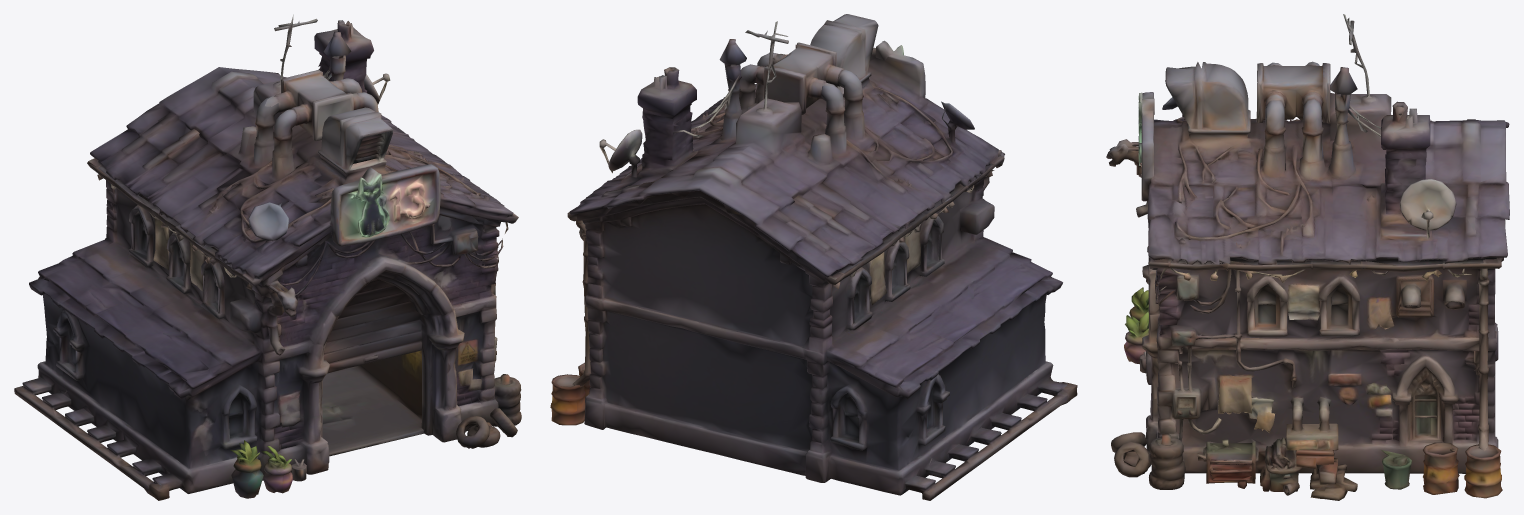
File: garage_blackcat13.glb
3 renders of one model, left to right at view 1: azimuth 30°, elevation 25°; view 2: azimuth 150°, elevation 25°; view 3: azimuth 270°, elevation 25°, orthographic. The views are drawn at different scales.
Visible parts, largest first — view 1: tripo_part_0, tripo_part_1, tripo_part_7, tripo_part_11, tripo_part_4, tripo_part_8, tripo_part_5, tripo_part_9, tripo_part_15; view 2: tripo_part_0, tripo_part_1, tripo_part_4, tripo_part_7, tripo_part_10, tripo_part_15; view 3: tripo_part_0, tripo_part_1, tripo_part_2, tripo_part_7, tripo_part_4, tripo_part_10, tripo_part_5, tripo_part_13, tripo_part_12, tripo_part_9, tripo_part_14, tripo_part_8 (+1 smaller).
Boxes of the visible parts, <box> form: tripo_part_0: <box>14,180,509,500</box>; tripo_part_1: <box>90,14,513,286</box>; tripo_part_7: <box>265,70,353,141</box>; tripo_part_11: <box>230,440,263,498</box>; tripo_part_4: <box>87,160,518,290</box>; tripo_part_8: <box>456,416,500,448</box>; tripo_part_5: <box>491,374,521,426</box>; tripo_part_9: <box>261,446,292,493</box>; tripo_part_15: <box>88,158,216,255</box>; tripo_part_0: <box>572,150,1077,500</box>; tripo_part_1: <box>569,14,1004,277</box>; tripo_part_4: <box>567,162,995,284</box>; tripo_part_7: <box>763,42,844,114</box>; tripo_part_10: <box>550,374,585,425</box>; tripo_part_15: <box>829,183,965,288</box>; tripo_part_0: <box>1106,139,1498,473</box>; tripo_part_1: <box>1138,14,1509,265</box>; tripo_part_2: <box>1197,397,1357,500</box>; tripo_part_7: <box>1256,61,1330,123</box>; tripo_part_4: <box>1148,257,1503,280</box>; tripo_part_10: <box>1464,444,1502,498</box>; tripo_part_5: <box>1149,433,1185,489</box>; tripo_part_13: <box>1423,442,1459,494</box>; tripo_part_12: <box>1381,450,1411,489</box>; tripo_part_9: <box>1124,311,1148,364</box>; tripo_part_14: <box>1114,442,1150,477</box>; tripo_part_8: <box>1111,432,1151,467</box>.
Bounding box in the file's own units: 0.9827 × 0.9407 × 0.8538.
Materials: 1 (1 with a texture image).
